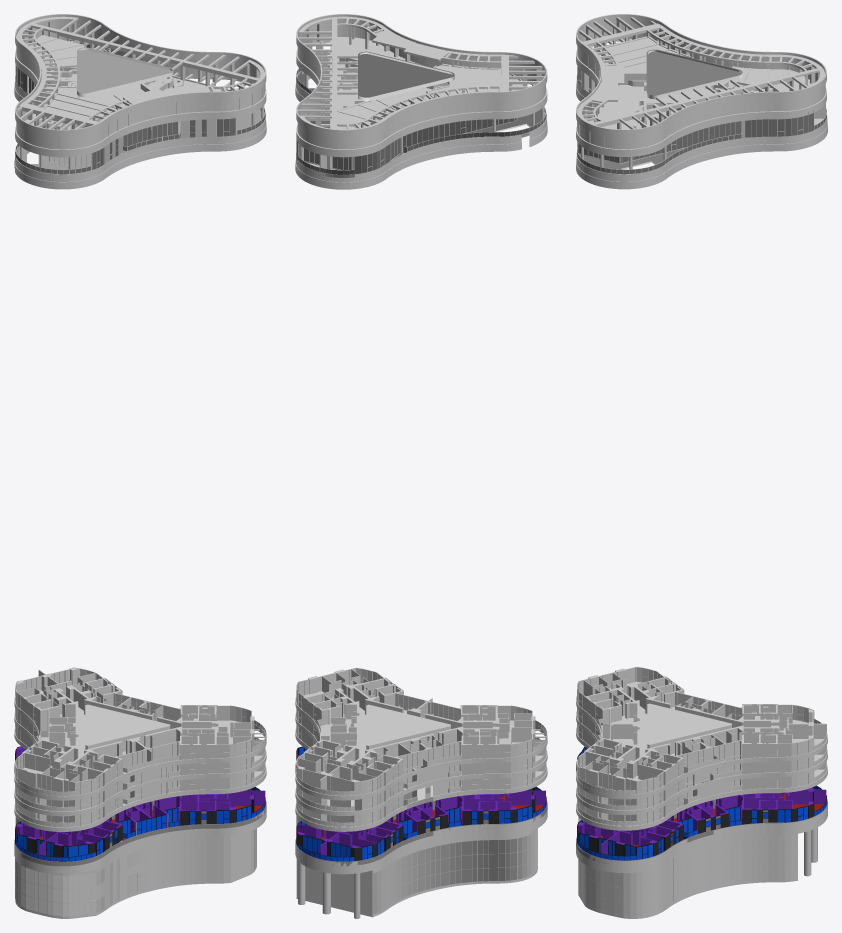
Rendered from Gindi_3js.fbx.
3 renders of one model, left to right at view 1: azimuth 30°, elevation 25°; view 2: azimuth 150°, elevation 25°; view 3: azimuth 270°, elevation 25°, orthographic.
Visible parts, largest first — view 1: wall_roof, Glass, panel_roof, APT_21-43_Int_5P_001, APT_21-43_Int_5P, hall_21-43, Windows, glass_roof, APT_21-43_Int_3M_001, APT_5-7_Int_3Rs, APT_21-43_Int_5R_001, APT_5-7_Int_3Ra (+24 smaller); view 2: wall_roof, Glass, panel_roof, glass_roof, APT_21-43_Int_5R_001, APT_21-43_Int_5P_001, Decoration, floor_roof, hall_21-43, APT_21-43_Int_4P, APT_5-7_Int_4Rw, APT_5-7_Int_4Re (+21 smaller); view 3: wall_roof, Glass, panel_roof, APT_21-43_Int_5P, APT_21-43_Int_5R, glass_roof, Decoration, hall_21-43, floor_roof, APT_5-7_Int_4Rw_001, Windows, APT_5-7_Int_4Re_001 (+21 smaller).
Part boxes in pixels (x1,y1,x2,y2): wall_roof: (14, 14, 266, 189); Glass: (15, 817, 256, 916); panel_roof: (15, 21, 265, 181); APT_21-43_Int_5P_001: (14, 746, 107, 800); APT_21-43_Int_5P: (198, 705, 266, 762); hall_21-43: (78, 704, 170, 757); Windows: (16, 830, 256, 916); glass_roof: (15, 43, 265, 174); APT_21-43_Int_3M_001: (133, 726, 215, 769); APT_5-7_Int_3Rs: (38, 827, 115, 866); APT_21-43_Int_5R_001: (14, 670, 78, 733); APT_5-7_Int_3Ra: (197, 791, 266, 828); wall_roof: (295, 14, 547, 189); Glass: (296, 816, 537, 914); panel_roof: (296, 21, 546, 182); glass_roof: (296, 68, 546, 174); APT_21-43_Int_5R_001: (319, 742, 418, 800); APT_21-43_Int_5P_001: (478, 705, 547, 762); Decoration: (295, 767, 547, 874); floor_roof: (297, 36, 544, 177); hall_21-43: (359, 704, 450, 757); APT_21-43_Int_4P: (398, 726, 479, 773); APT_5-7_Int_4Rw: (319, 821, 406, 866); APT_5-7_Int_4Re: (462, 791, 547, 825); wall_roof: (576, 14, 827, 189); Glass: (578, 817, 797, 916); panel_roof: (576, 21, 827, 181); APT_21-43_Int_5P: (576, 751, 677, 799); APT_21-43_Int_5R: (711, 724, 827, 765); glass_roof: (577, 67, 826, 174); Decoration: (576, 763, 827, 872); hall_21-43: (639, 703, 731, 756); floor_roof: (578, 41, 827, 169); APT_5-7_Int_4Rw_001: (742, 789, 827, 824); Windows: (578, 834, 797, 916); APT_5-7_Int_4Re_001: (600, 820, 687, 863).
Bounding box in the file's own units: 5193 × 16410 × 4741.
